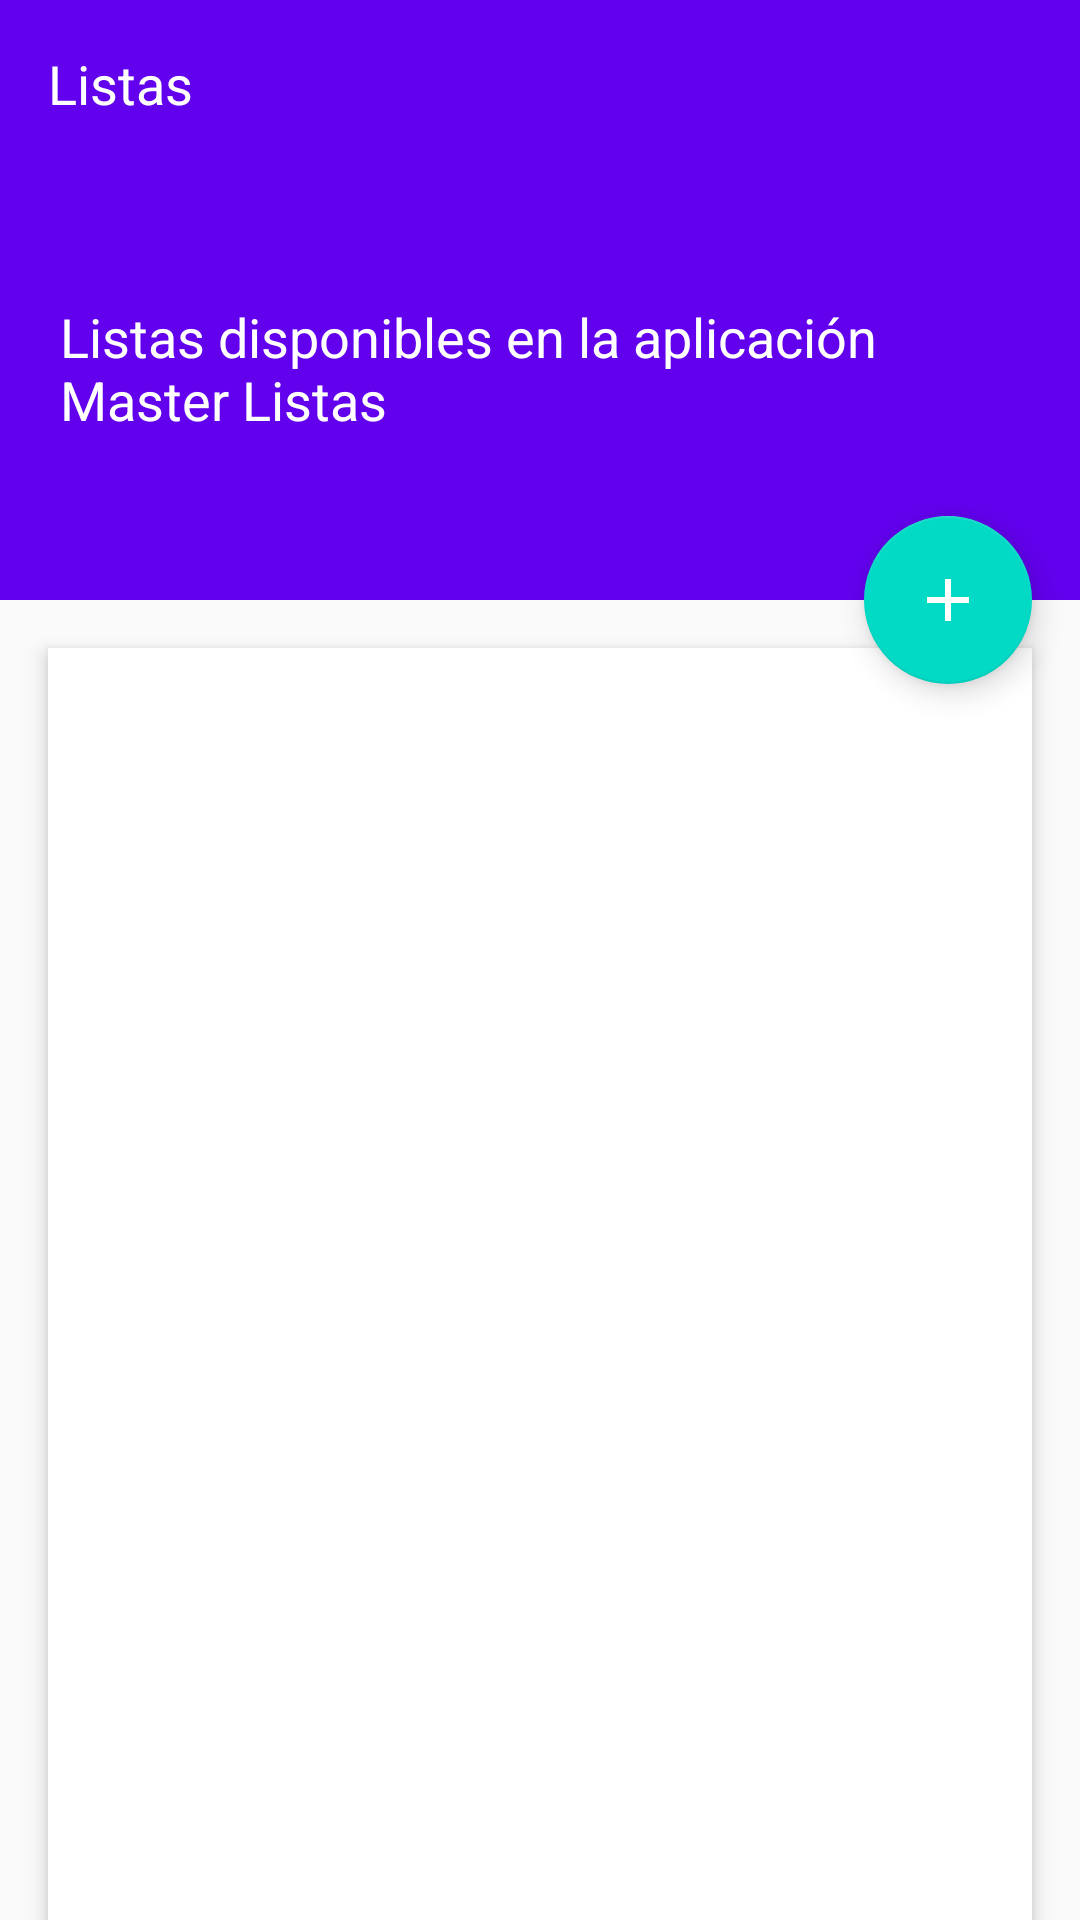

Icon click points for this 1080x1920 phone screenshot, format point (x, y):
fab plus: point (948, 600)
